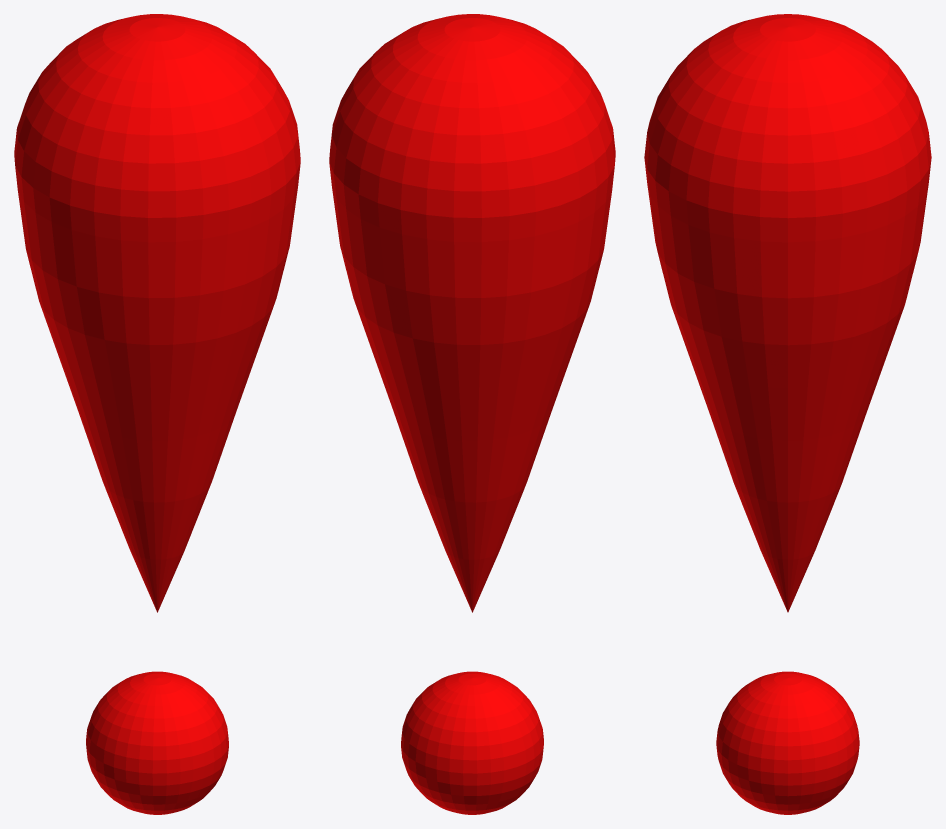
Rendered from ExclamationMark.gltf.
3 views of the same model, side by side, from view 1: azimuth 30°, elevation 25°; view 2: azimuth 150°, elevation 25°; view 3: azimuth 270°, elevation 25° (orthographic).
Parts seen in each view (by area): view 1: 球.001, 球; view 2: 球.001, 球; view 3: 球.001, 球.
Boxes of the visible parts, left/top/right/bottom form: 球.001: left=14, top=14, right=300, bottom=612; 球: left=86, top=671, right=228, bottom=814; 球.001: left=329, top=14, right=615, bottom=612; 球: left=401, top=671, right=543, bottom=814; 球.001: left=644, top=14, right=931, bottom=612; 球: left=716, top=671, right=859, bottom=814.
Size of the model in its own units: 2 by 6 by 2.
Materials: 2 (2 with a texture image).
